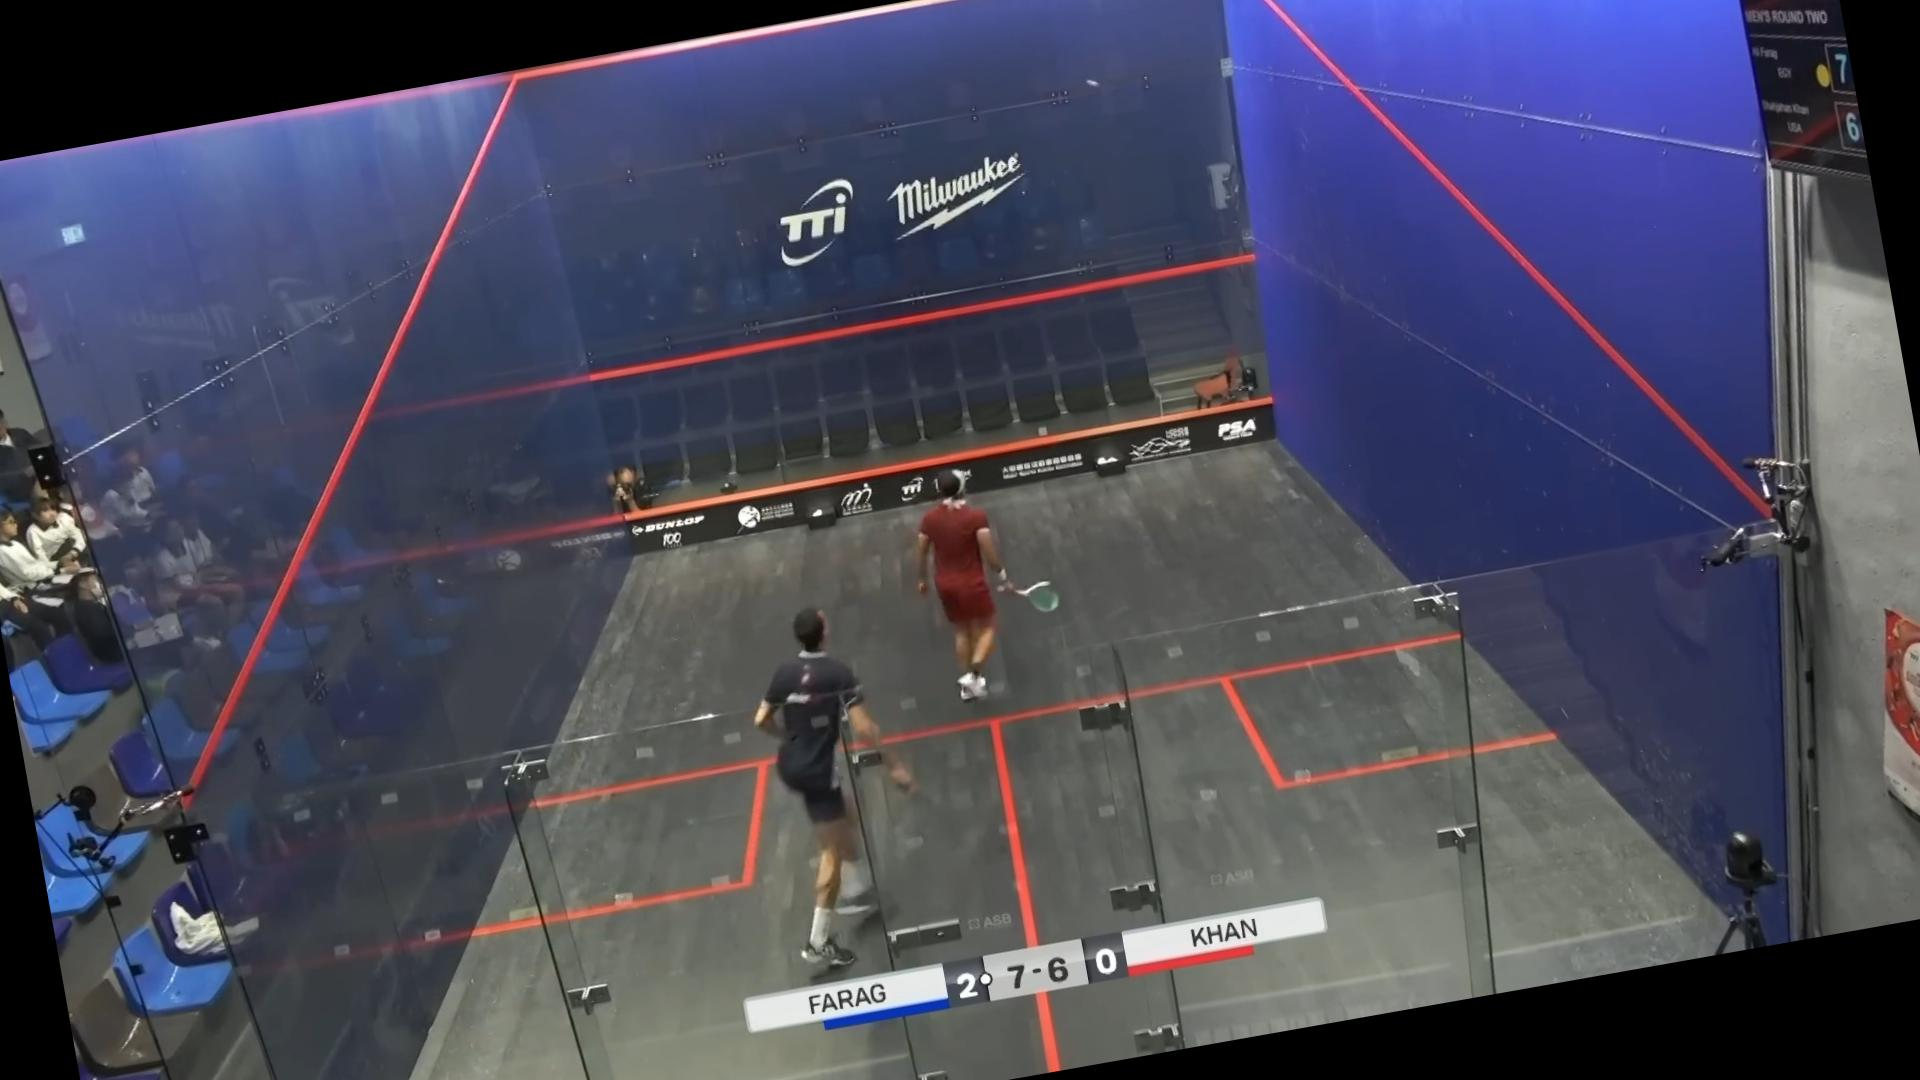Racket: (1010, 574, 1064, 622)
